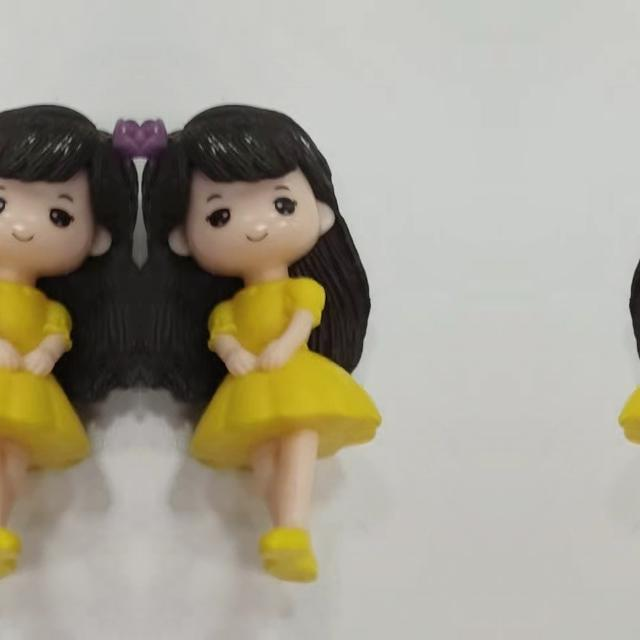woman dress: (192, 259, 384, 589), (0, 259, 88, 589), (616, 259, 640, 589)
woman head: (140, 108, 346, 272), (0, 107, 139, 272)
